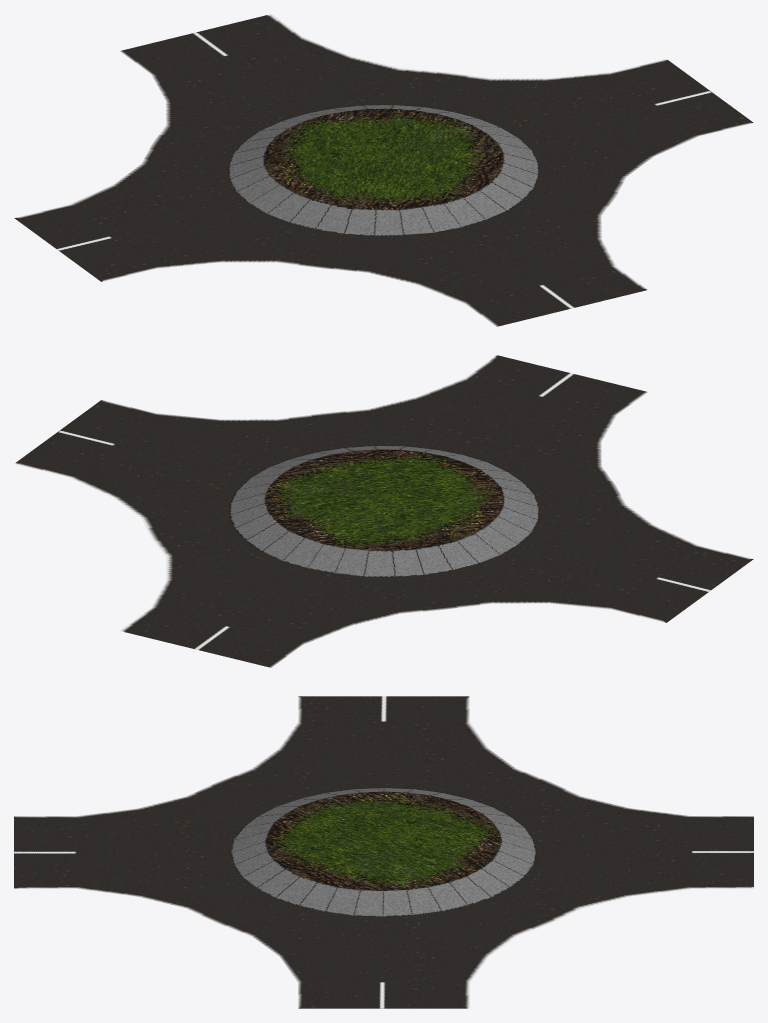
File: Roundabout.obj
3 renders of one model, top to bottom at view 1: azimuth 30°, elevation 25°; view 2: azimuth 150°, elevation 25°; view 3: azimuth 270°, elevation 25°, orthographic.
Visible parts, largest first — view 1: Plane01; view 2: Plane01; view 3: Plane01.
Part boxes in pixels (bbox=[...]): Plane01: bbox=[14, 14, 753, 326]; Plane01: bbox=[14, 355, 753, 667]; Plane01: bbox=[14, 696, 753, 1008].
Bounding box in the file's own units: 30.1 × 0.7 × 30.12.
